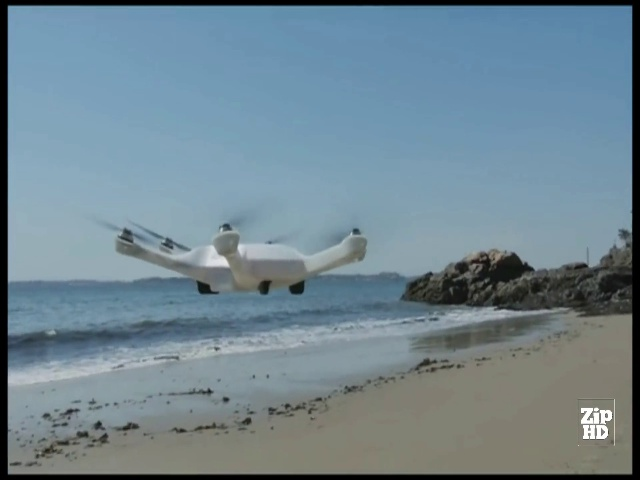drone: (80, 200, 372, 301)
